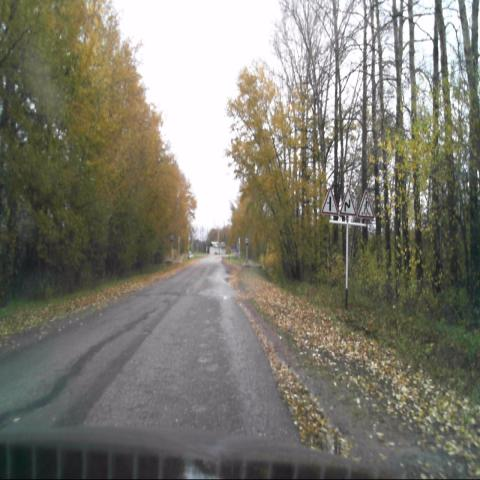1_12: (339, 188, 357, 217)
